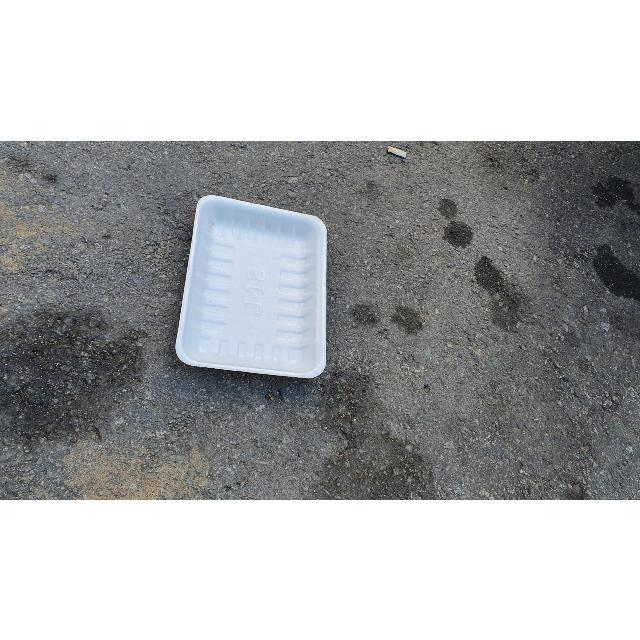Plastico descartable: (174, 197, 327, 381)
